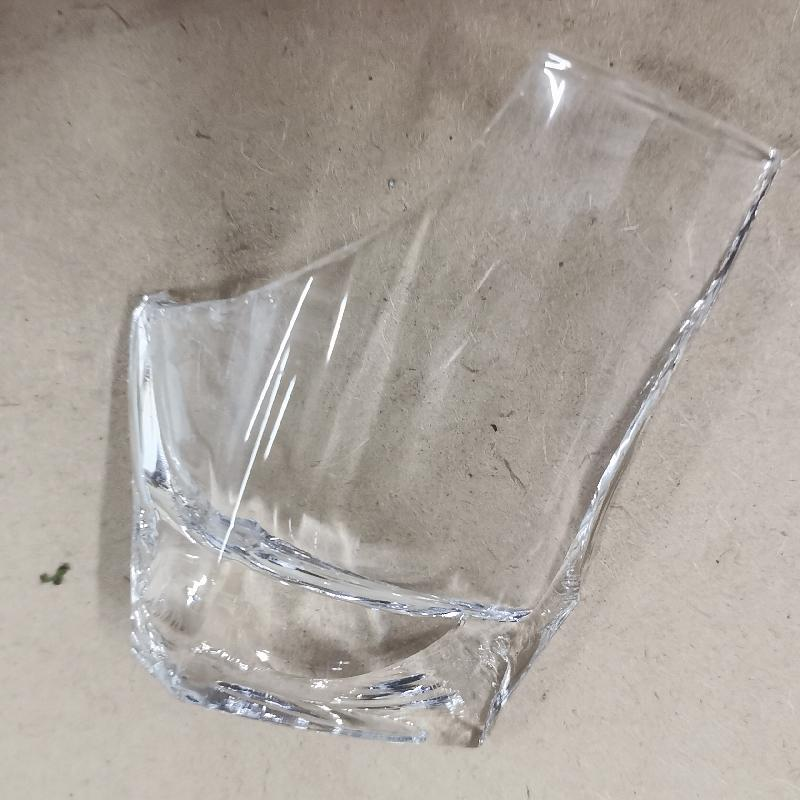glass: (134, 45, 773, 746)
